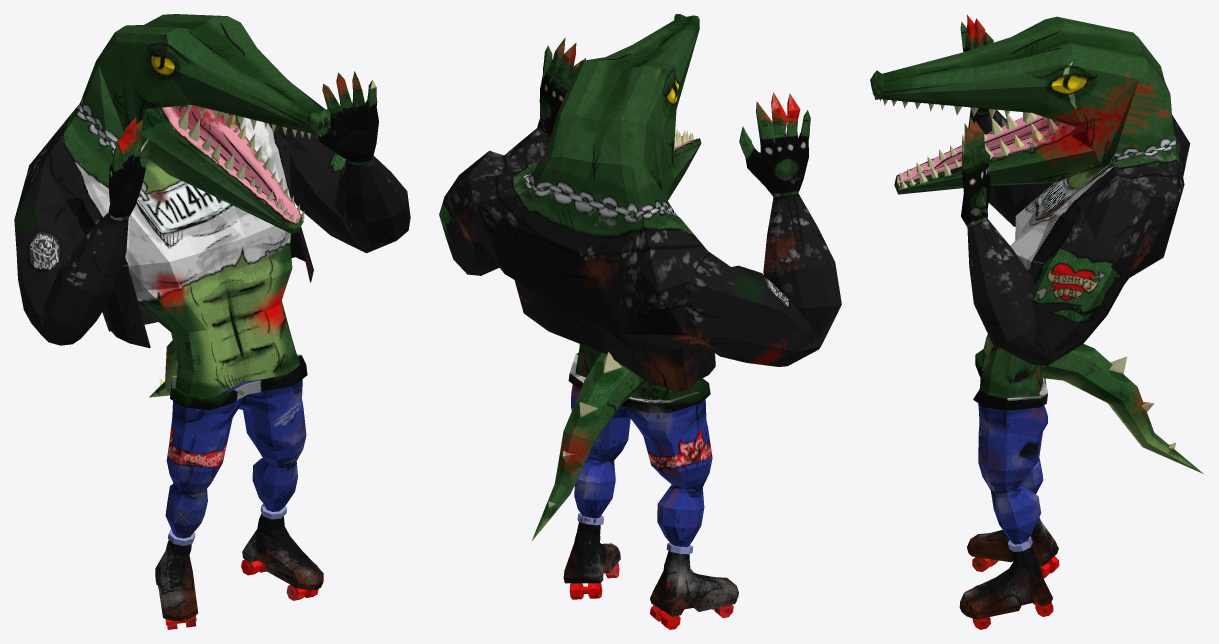
Rendered from cocodrilaBonesSelect_000020.obj.
3 renders of one model, left to right at view 1: azimuth 30°, elevation 25°; view 2: azimuth 150°, elevation 25°; view 3: azimuth 270°, elevation 25°, orthographic.
Visible parts, largest first — view 1: Crocodile.002_Cylinder.002; view 2: Crocodile.002_Cylinder.002; view 3: Crocodile.002_Cylinder.002.
Boxes of the visible parts, bbox=[...] form: Crocodile.002_Cylinder.002: bbox=[14, 14, 410, 629]; Crocodile.002_Cylinder.002: bbox=[439, 14, 841, 629]; Crocodile.002_Cylinder.002: bbox=[870, 14, 1203, 629].
Bounding box in the file's own units: 4.57 × 6.69 × 3.6.
